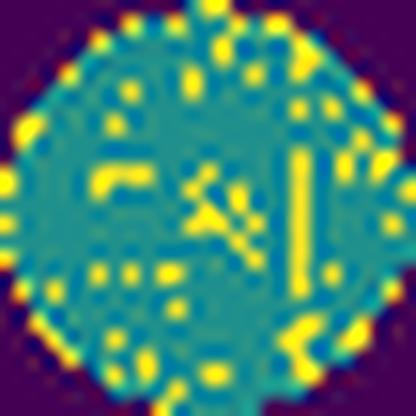Scratch: (175, 157, 279, 274), (288, 143, 320, 305)
